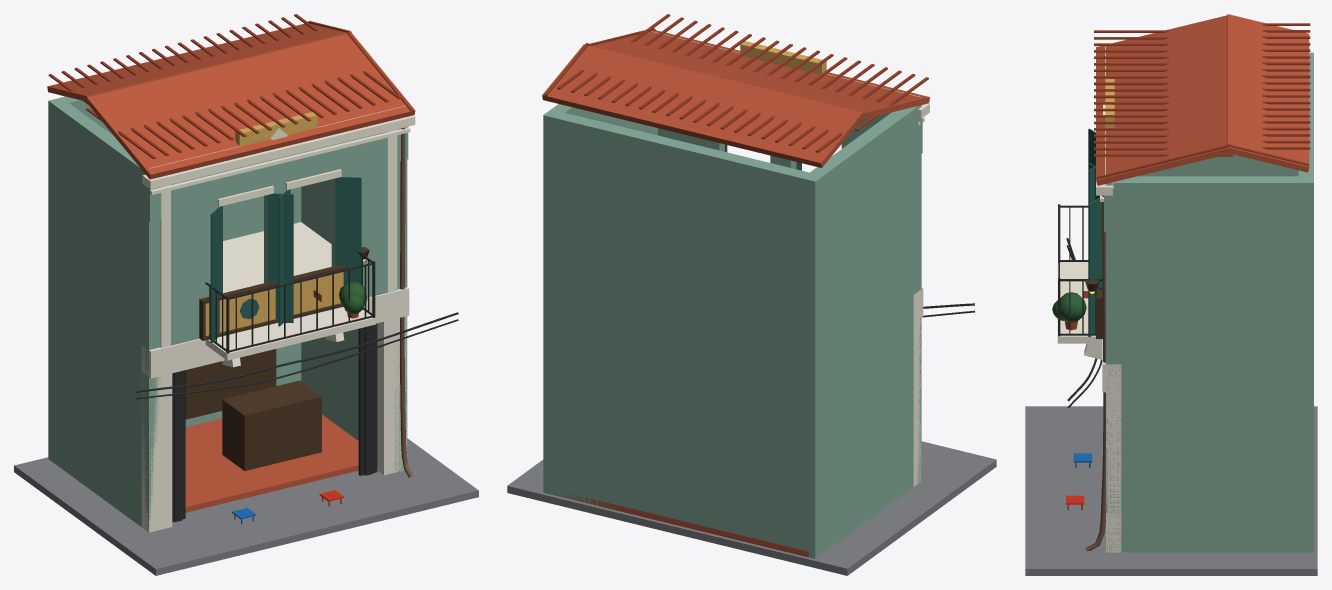
Rendered from shophouse.glb.
The picture shows the model from 3 angles, left to right: view 1: azimuth 30°, elevation 25°; view 2: azimuth 150°, elevation 25°; view 3: azimuth 270°, elevation 25°; orthographic projection. The views are drawn at different scales.
Visible parts, largest first — view 1: Mesh_WallRight, Mesh_RoofFront, Mesh_Base, Mesh_ShopFloor, Mesh_WallLeft, Mesh_Counter, Mesh_WallBack, Mesh_WallR, Mesh_RoofBack, Mesh_WallL, Mesh_WallTop, Mesh_PillarR (+25 smaller); view 2: Mesh_WallBack, Mesh_WallRight, Mesh_RoofBack, Mesh_Base, Mesh_RoofFront, Mesh_ShopFloor, Mesh_PillarR, Mesh_ParapetC, Mesh_WallLeft; view 3: Mesh_WallLeft, Mesh_Base, Mesh_RoofFront, Mesh_RoofBack, Mesh_WallBack, Mesh_PillarL, Mesh_WallRight, Mesh_BalconySlab, Mesh_Door1L, Mesh_DrainPipe, Mesh_Leaf1, Mesh_RibF0.
Part boxes in pixels (x1,y1,x2,y2): Mesh_WallRight: [55, 103, 160, 531]; Mesh_RoofFront: [85, 33, 415, 179]; Mesh_Base: [14, 438, 478, 575]; Mesh_ShopFloor: [185, 414, 358, 512]; Mesh_WallLeft: [301, 159, 407, 471]; Mesh_Counter: [222, 380, 321, 470]; Mesh_WallBack: [48, 96, 301, 463]; Mesh_WallR: [171, 172, 220, 345]; Mesh_RoofBack: [47, 23, 351, 101]; Mesh_WallL: [331, 132, 387, 297]; Mesh_WallTop: [147, 127, 408, 222]; Mesh_PillarR: [141, 346, 172, 532]; Mesh_WallBack: [543, 109, 823, 558]; Mesh_WallRight: [810, 105, 921, 552]; Mesh_RoofBack: [542, 44, 863, 167]; Mesh_Base: [507, 441, 996, 575]; Mesh_RoofFront: [591, 30, 929, 119]; Mesh_ShopFloor: [556, 491, 808, 557]; Mesh_PillarR: [913, 295, 921, 486]; Mesh_ParapetC: [740, 41, 826, 74]; Mesh_WallLeft: [551, 104, 657, 135]; Mesh_WallLeft: [1106, 176, 1298, 552]; Mesh_Base: [1025, 406, 1317, 575]; Mesh_RoofFront: [1096, 15, 1230, 185]; Mesh_RoofBack: [1227, 14, 1309, 172]; Mesh_WallBack: [1298, 52, 1313, 552]; Mesh_PillarL: [1106, 364, 1121, 552]; Mesh_WallRight: [1138, 154, 1298, 176]; Mesh_BalconySlab: [1057, 262, 1102, 343]; Mesh_Door1L: [1088, 197, 1102, 337]; Mesh_DrainPipe: [1085, 195, 1105, 551]; Mesh_Leaf1: [1057, 292, 1086, 322]; Mesh_RibF0: [1096, 144, 1230, 179].
Bounding box in the file's own units: 5.01 × 5.95 × 3.8.
